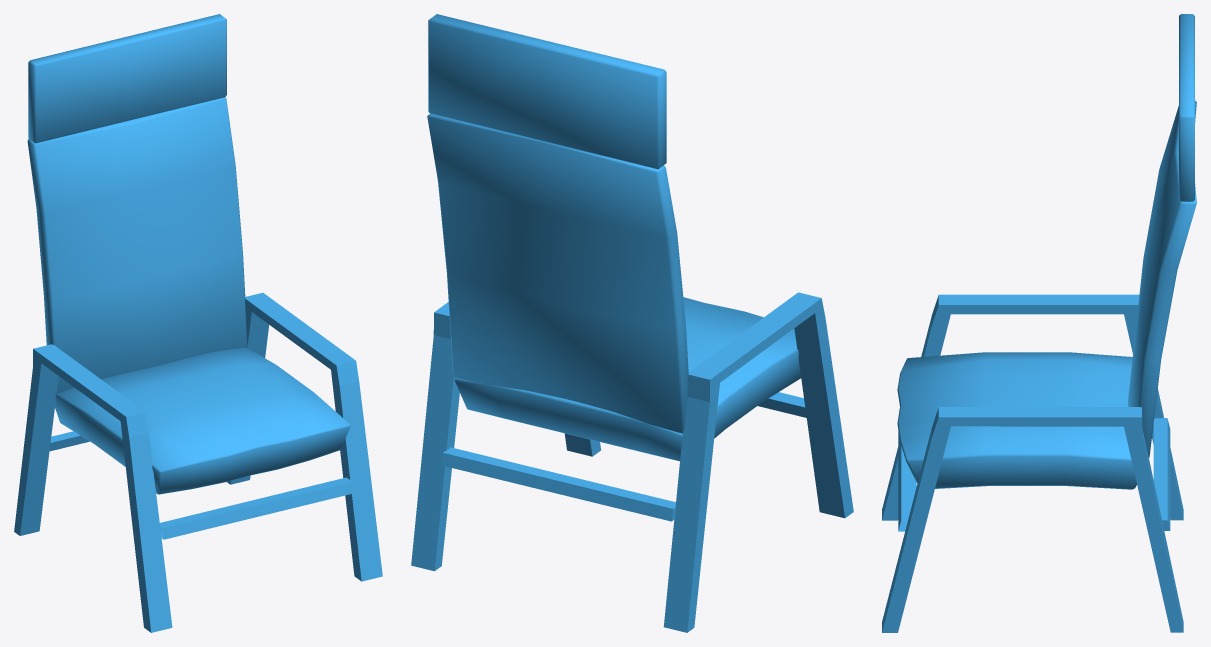
File: Prop_Chair_02.fbx
The picture shows the model from 3 angles, left to right: view 1: azimuth 30°, elevation 25°; view 2: azimuth 150°, elevation 25°; view 3: azimuth 270°, elevation 25°; orthographic projection. The views are drawn at different scales.
Visible parts, largest first — view 1: Prop_Chair_02; view 2: Prop_Chair_02; view 3: Prop_Chair_02.
Boxes of the visible parts, box(x1,y1,x2,y2) form: Prop_Chair_02: box(14, 14, 382, 632); Prop_Chair_02: box(411, 14, 853, 632); Prop_Chair_02: box(882, 14, 1196, 632).
Size of the model in its own units: 73.5 by 141 by 79.16.
